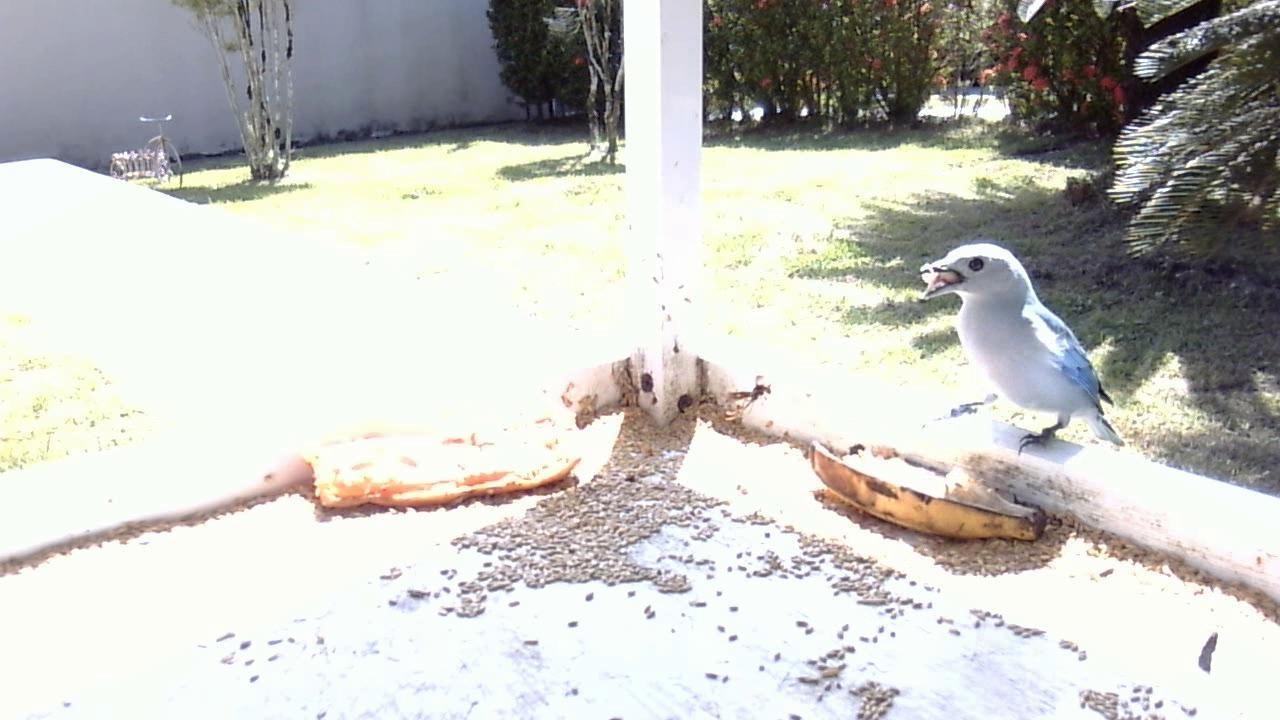sanhaco_da_amazonia: (912, 237, 1131, 463)
